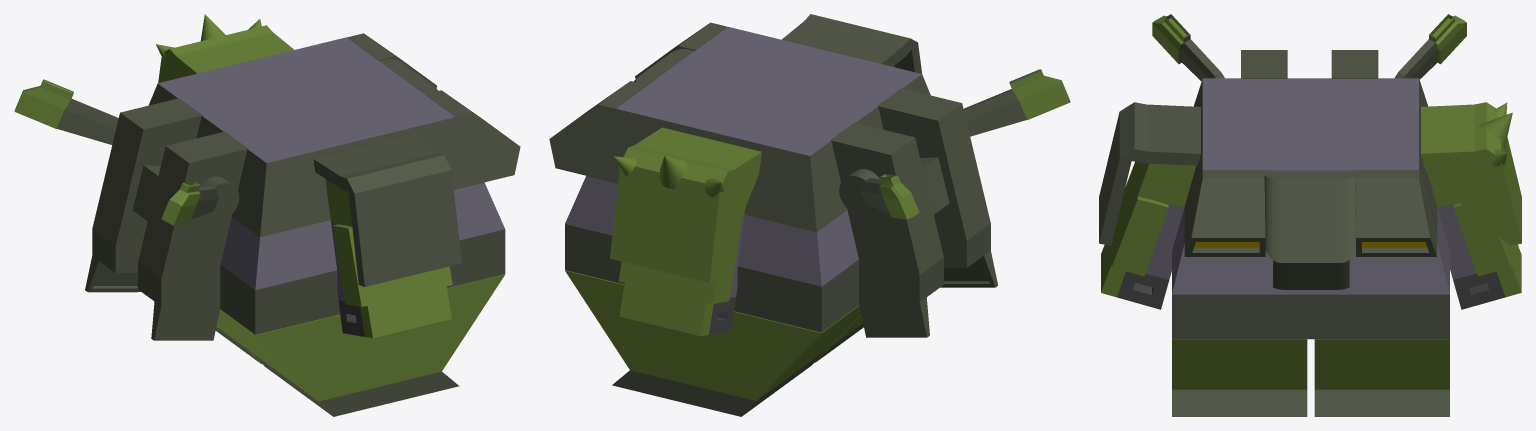
The model's file is body+leg+arm.glb.
3 renders of one model, left to right at view 1: azimuth 30°, elevation 25°; view 2: azimuth 150°, elevation 25°; view 3: azimuth 270°, elevation 25°, orthographic. The views are drawn at different scales.
Visible parts, largest first — view 1: Sphere.001; view 2: Sphere.001; view 3: Sphere.001.
Boxes of the visible parts, x1,y1,x2,y2 form: Sphere.001: (14, 14, 520, 416); Sphere.001: (549, 14, 1070, 416); Sphere.001: (1099, 14, 1521, 416).
Bounding box in the file's own units: 1.97 × 1.35 × 1.92.
